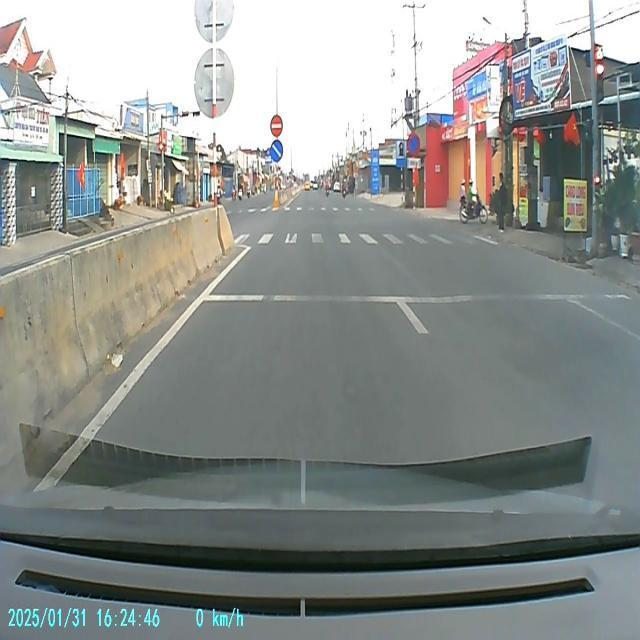102-cam-di-nguoc-chieu: (269, 112, 283, 136)
131a-cam-do-xe: (408, 131, 420, 157)
302a-huong-phai-di-vong-chuong-ngai-vat-1: (269, 140, 283, 162)
